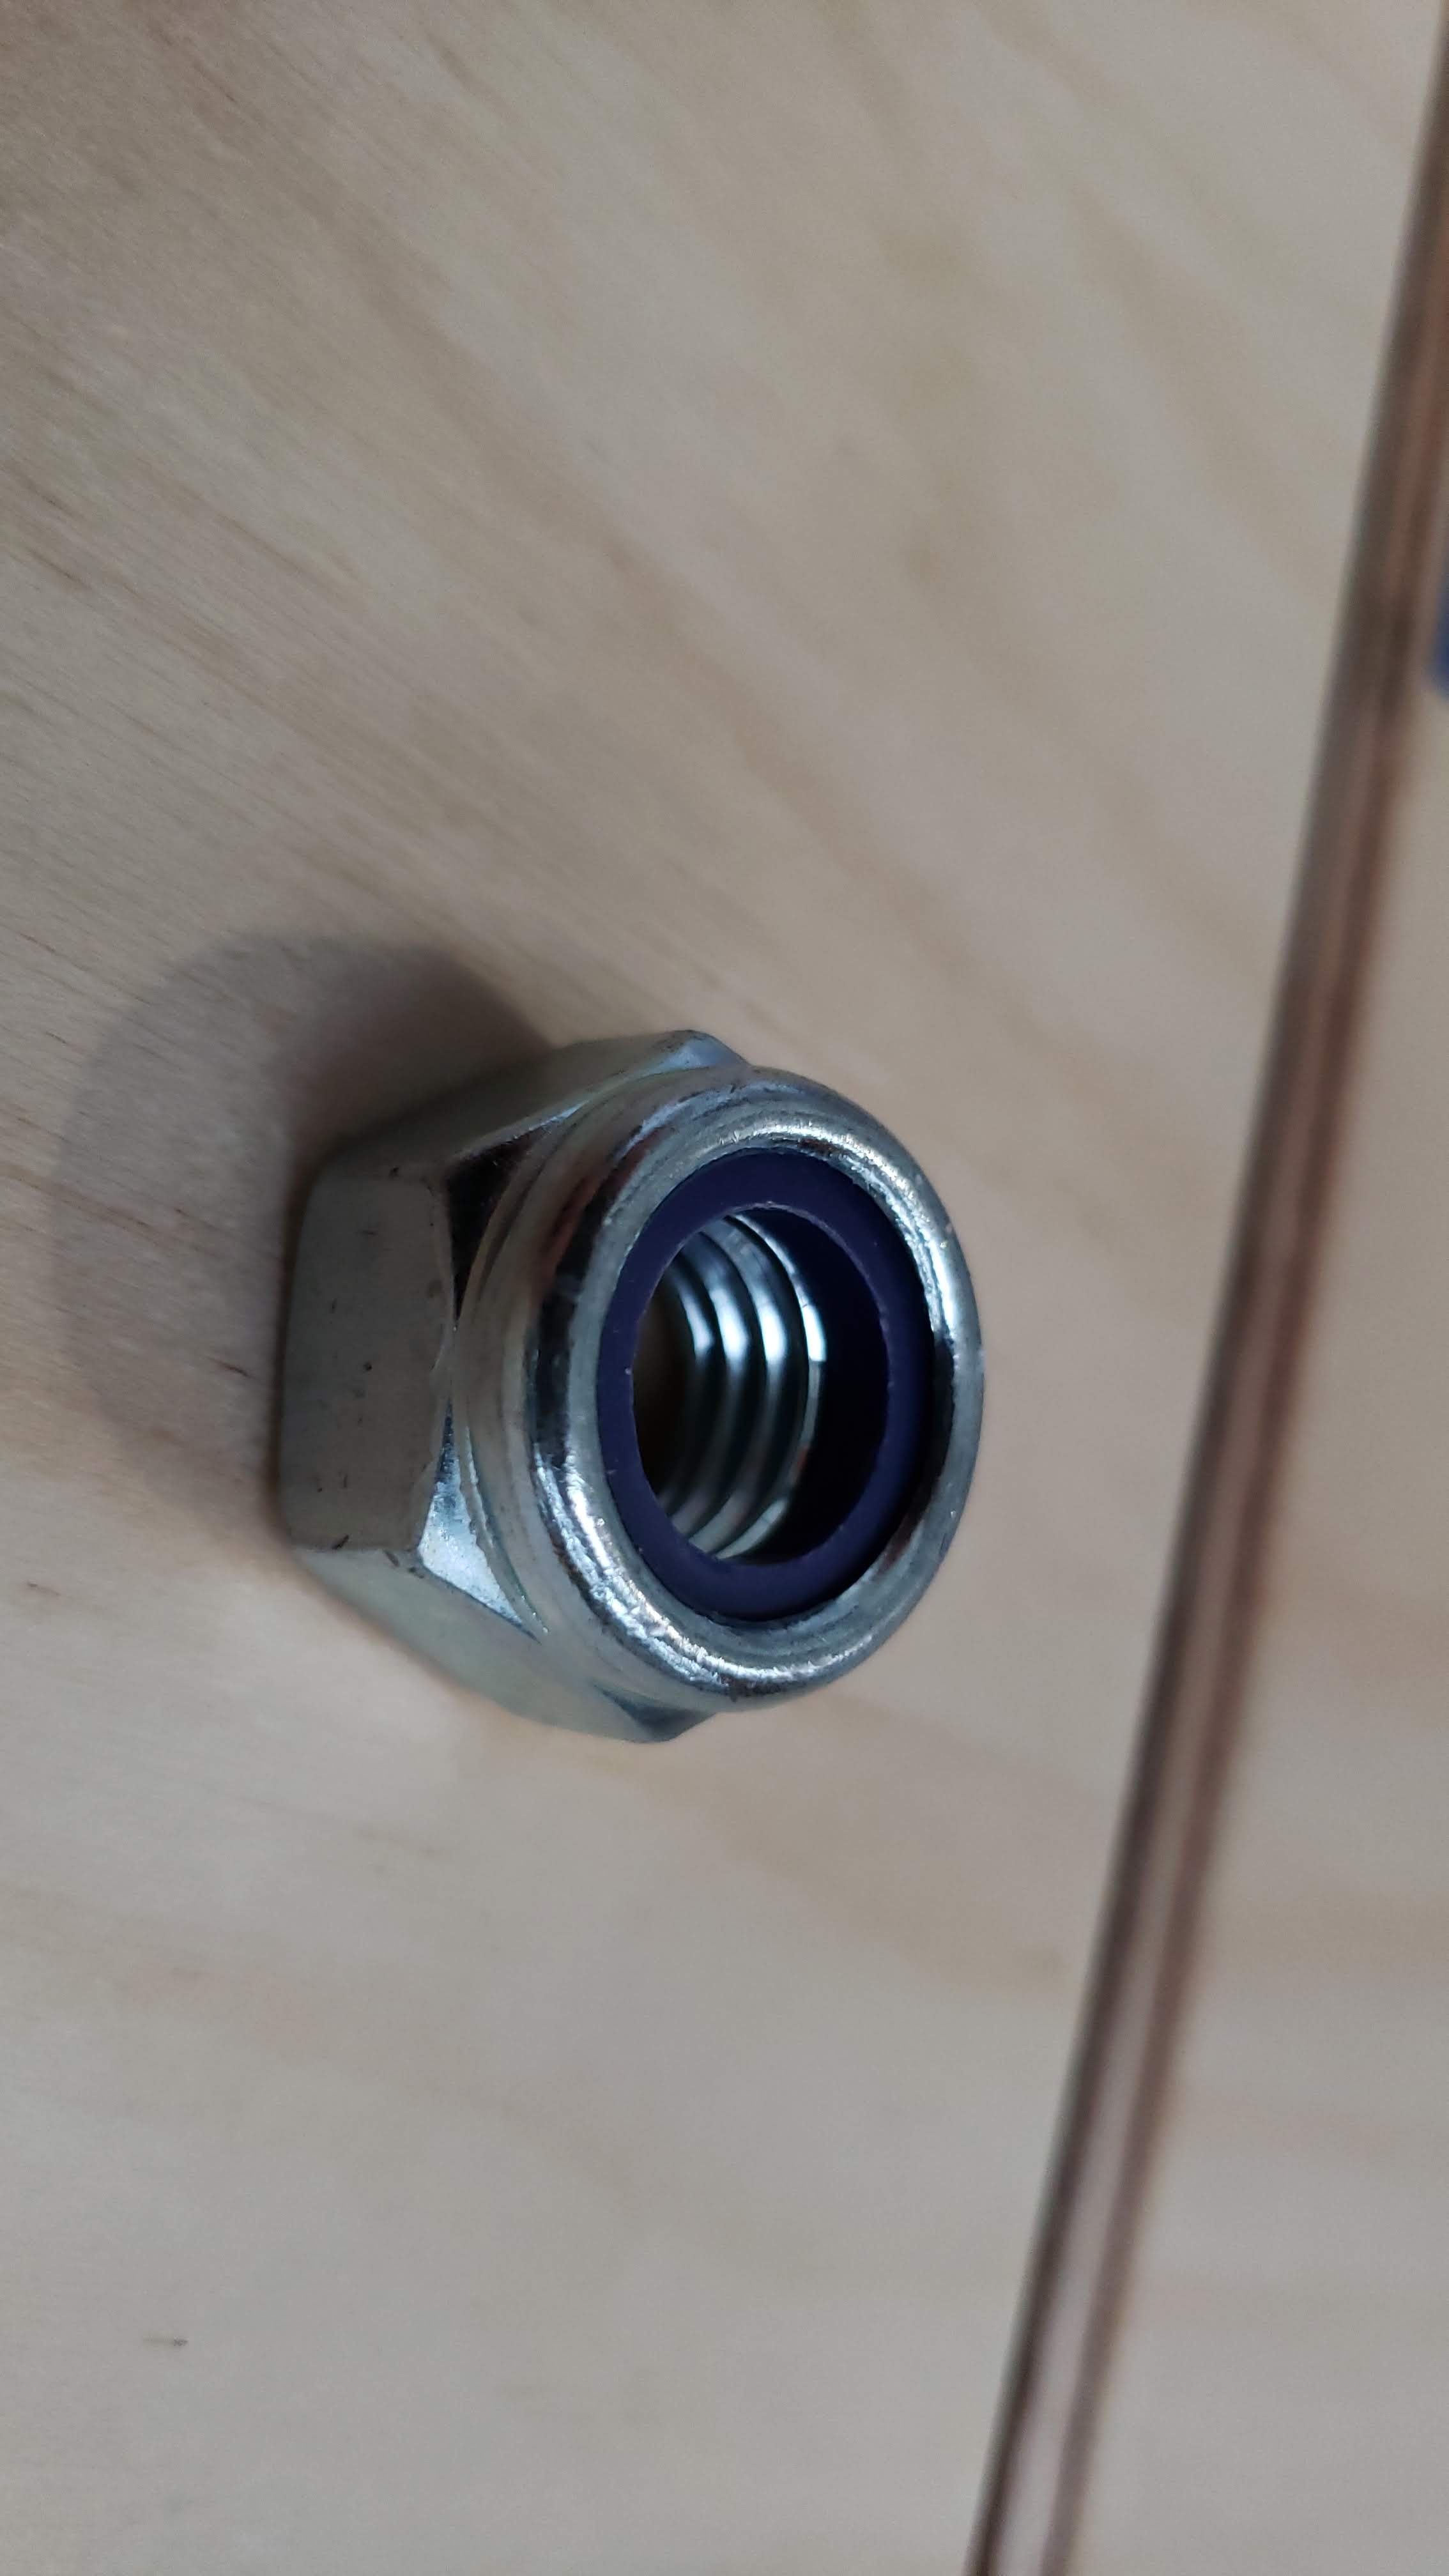Nut: (124, 789, 1205, 1858)
